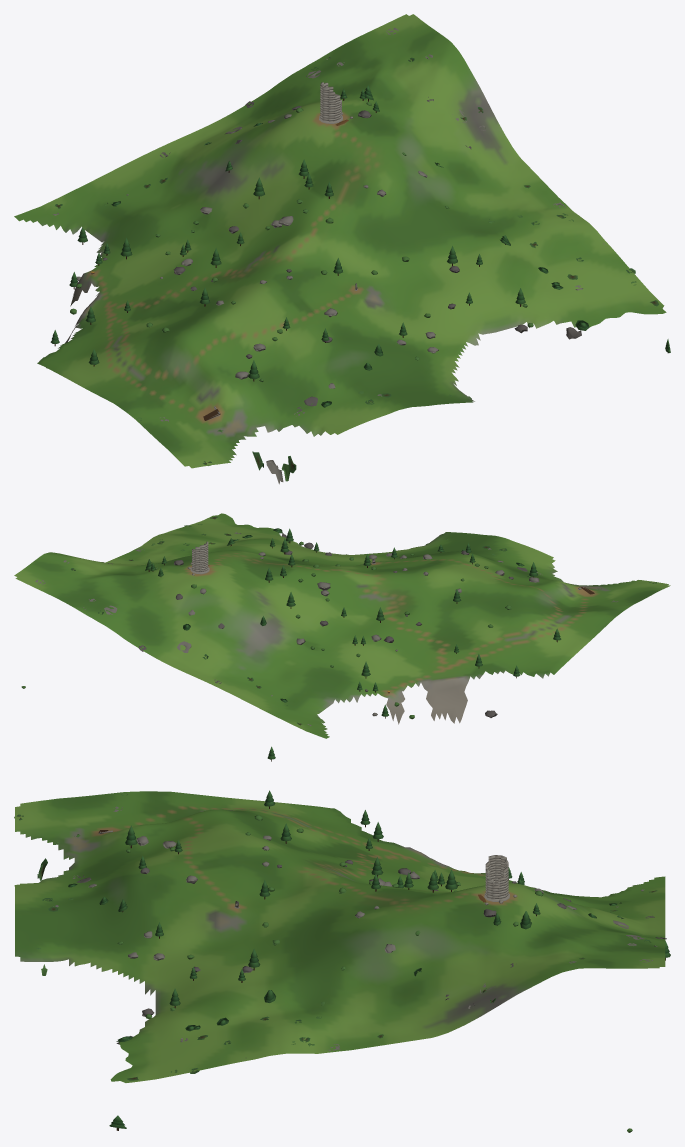
The model's file is arch_isl_lantern_rock.glb.
3 views of the same model, one above another, from view 1: azimuth 30°, elevation 25°; view 2: azimuth 150°, elevation 25°; view 3: azimuth 270°, elevation 25° (orthographic). The views are drawn at different scales.
Parts seen in each view (by area): view 1: arch_isl_lantern_rock; view 2: arch_isl_lantern_rock; view 3: arch_isl_lantern_rock.
Boxes of the visible parts, x1=… form: arch_isl_lantern_rock: x1=14, y1=14, x2=670, y2=484; arch_isl_lantern_rock: x1=14, y1=513, x2=670, y2=761; arch_isl_lantern_rock: x1=14, y1=790, x2=670, y2=1132.
Size of the model in its own units: 242 by 77.02 by 242.
